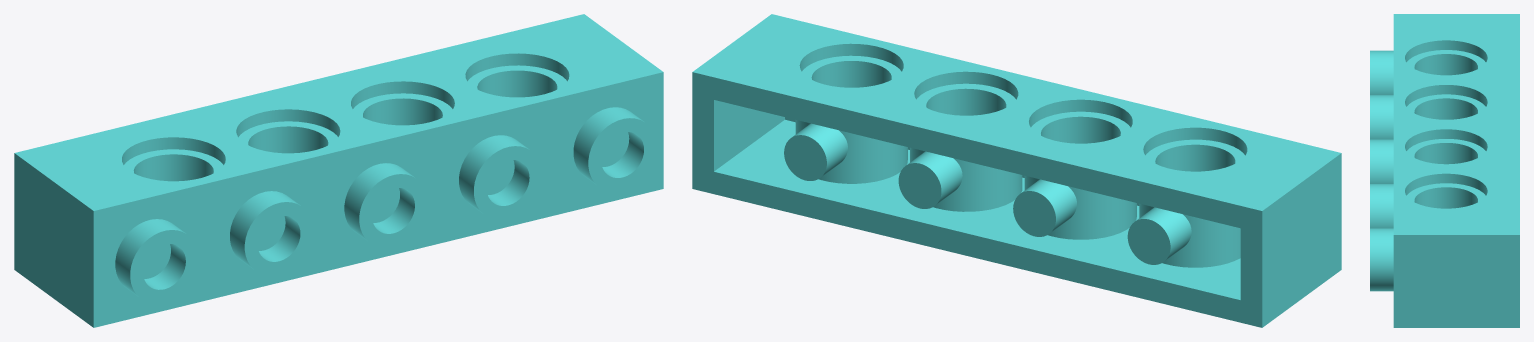
Rendered from technic_brick_5_blue.glb.
3 views of the same model, side by side, from view 1: azimuth 30°, elevation 25°; view 2: azimuth 150°, elevation 25°; view 3: azimuth 270°, elevation 25° (orthographic). The views are drawn at different scales.
Parts seen in each view (by area): view 1: base; view 2: base; view 3: base.
Part boxes in pixels (x1,y1,x2,y2): base: (14,14,663,327); base: (692,14,1341,327); base: (1370,14,1519,327).
Bounding box in the file's own units: 0.0398 × 0.0078 × 0.0114.
